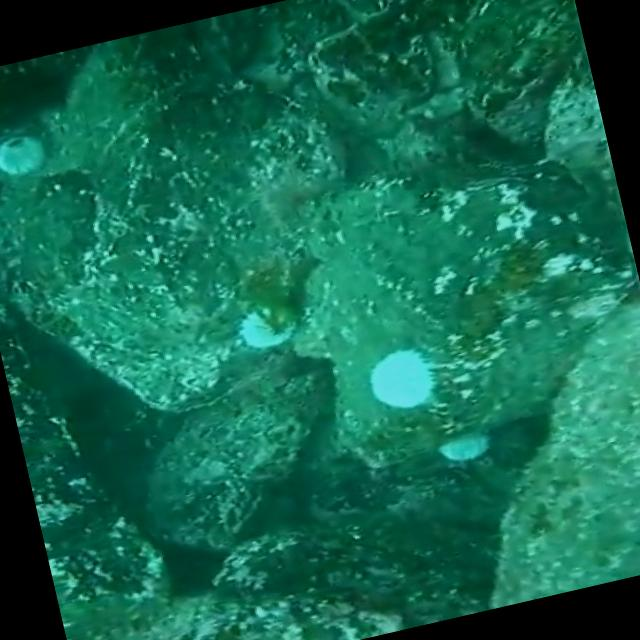Deniz Kestanesi: (358, 341, 445, 420), (222, 296, 301, 360), (0, 124, 59, 187), (432, 424, 494, 468)
